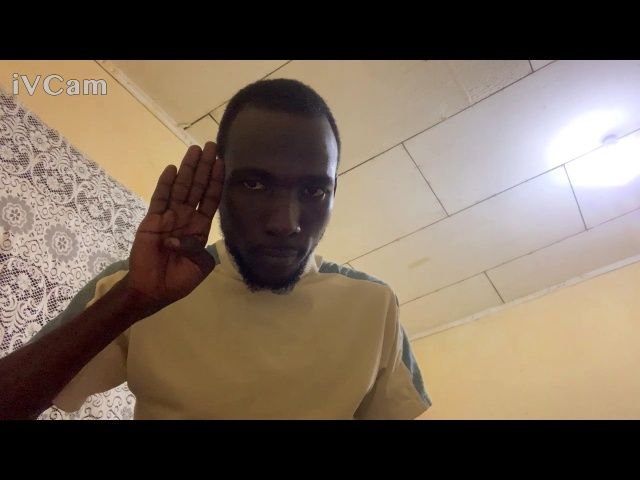s'il te plait: (126, 133, 225, 312)
